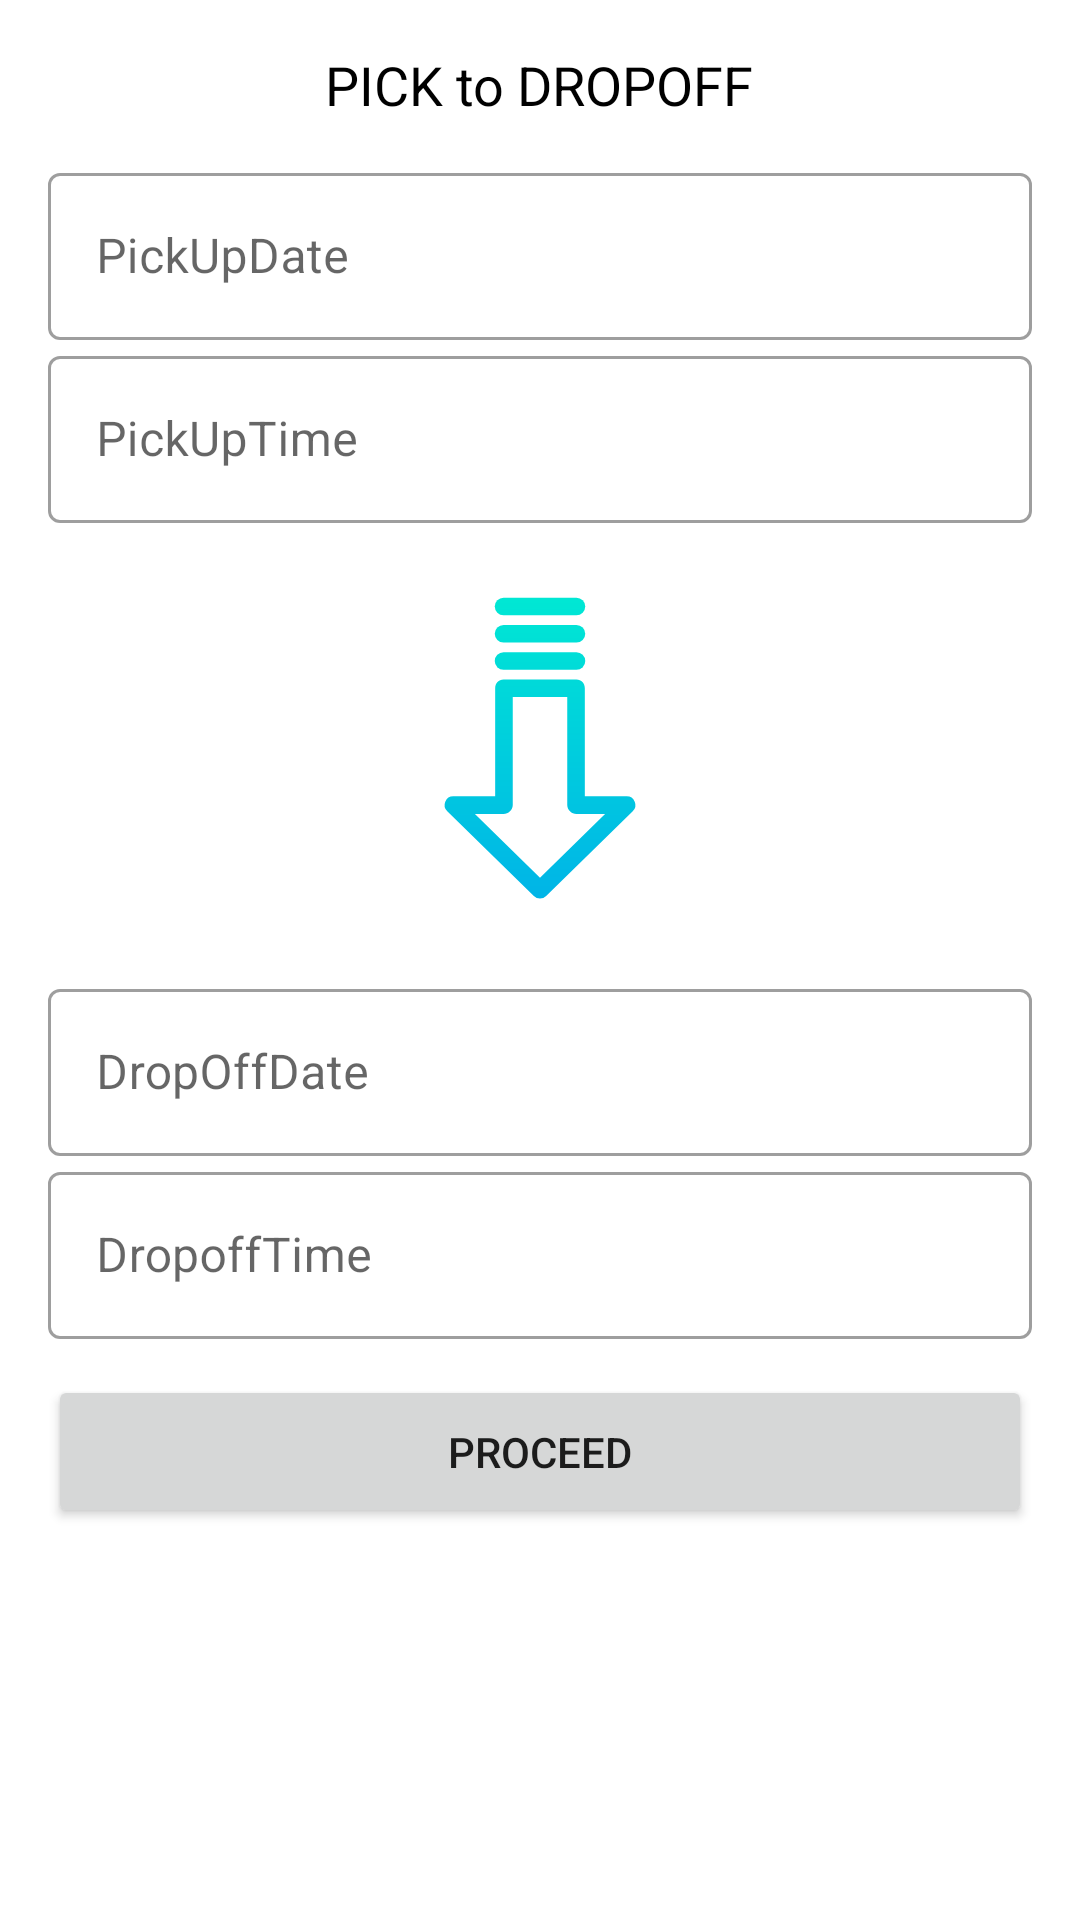

Screen size 1080×1920. Icon name, then its box in pixels as (x1, y1, x2, y2):
down arrow: (444, 597, 636, 899)
